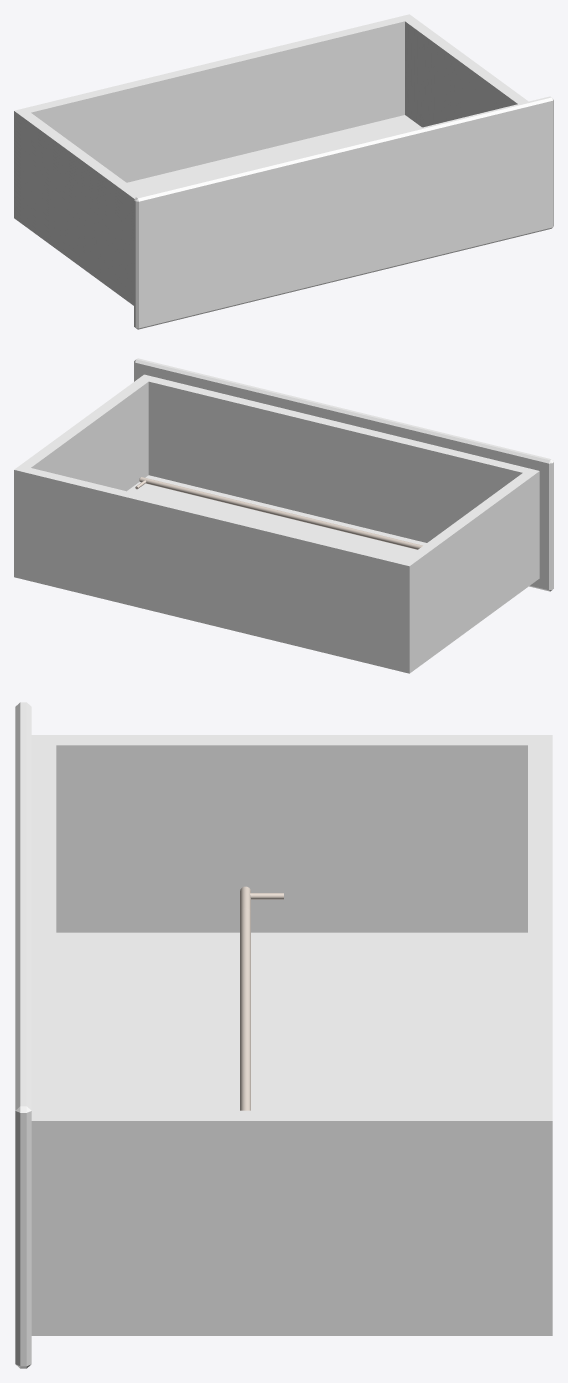
Rendered from Drawer_2a1cad7f.obj.
3 renders of one model, top to bottom at view 1: azimuth 30°, elevation 25°; view 2: azimuth 150°, elevation 25°; view 3: azimuth 270°, elevation 25°, orthographic. The views are drawn at different scales.
Parts seen in each view (by area): view 1: FP410:Door2_01_e23e480b; view 2: FP410:Door2_01_e23e480b, handle_1_600mm_01_466a6bbb; view 3: FP410:Door2_01_e23e480b, handle_1_600mm_01_466a6bbb.
Part boxes in pixels (x1,y1,x2,y2): FP410:Door2_01_e23e480b: [14, 14, 553, 329]; FP410:Door2_01_e23e480b: [14, 358, 553, 673]; handle_1_600mm_01_466a6bbb: [135, 477, 422, 549]; FP410:Door2_01_e23e480b: [15, 702, 552, 1368]; handle_1_600mm_01_466a6bbb: [240, 886, 283, 1110].
Size of the model in its own units: 0.8476 by 0.2541 by 0.4714.
